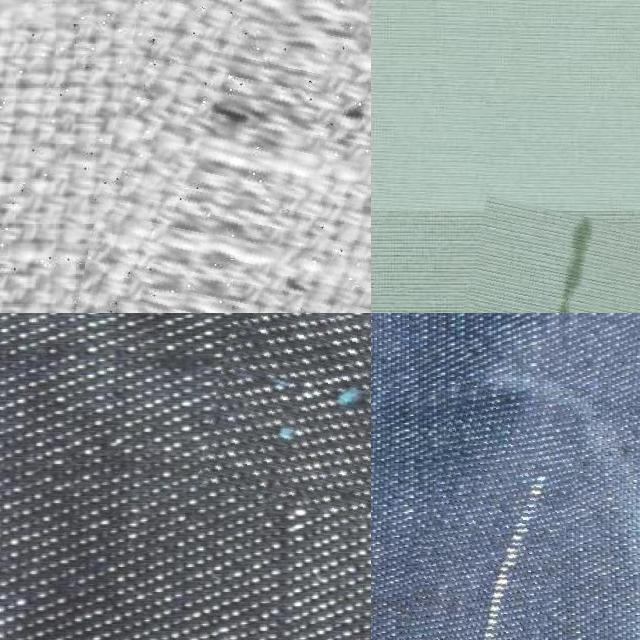Hole: (424, 204, 640, 313)
Thread_other: (83, 0, 371, 313), (391, 380, 571, 640), (205, 313, 371, 517)
